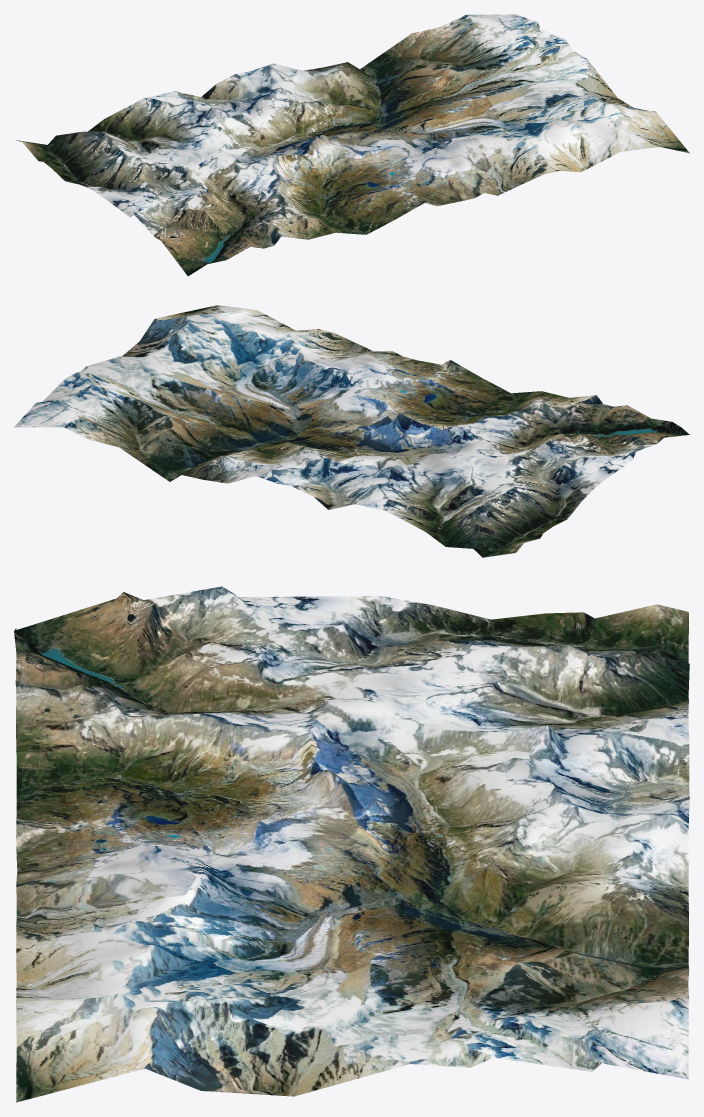
The model's file is mapa.gltf.
The picture shows the model from 3 angles, top to bottom: view 1: azimuth 30°, elevation 25°; view 2: azimuth 150°, elevation 25°; view 3: azimuth 270°, elevation 25°; orthographic projection. The views are drawn at different scales.
Parts seen in each view (by area): view 1: EXPORT_GOOGLE_SAT_WM; view 2: EXPORT_GOOGLE_SAT_WM; view 3: EXPORT_GOOGLE_SAT_WM.
Part boxes in pixels (x1=…): EXPORT_GOOGLE_SAT_WM: x1=16, y1=14, x2=689, y2=276; EXPORT_GOOGLE_SAT_WM: x1=14, y1=305, x2=689, y2=557; EXPORT_GOOGLE_SAT_WM: x1=14, y1=586, x2=689, y2=1102.
Bounding box in the file's own units: 490 × 34.88 × 295.
1 material, 1 textured.
